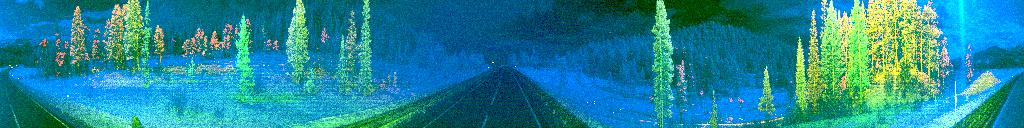pole: (952, 78, 958, 126), (64, 84, 72, 111)
